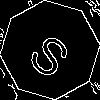S: (25, 25, 80, 81)
